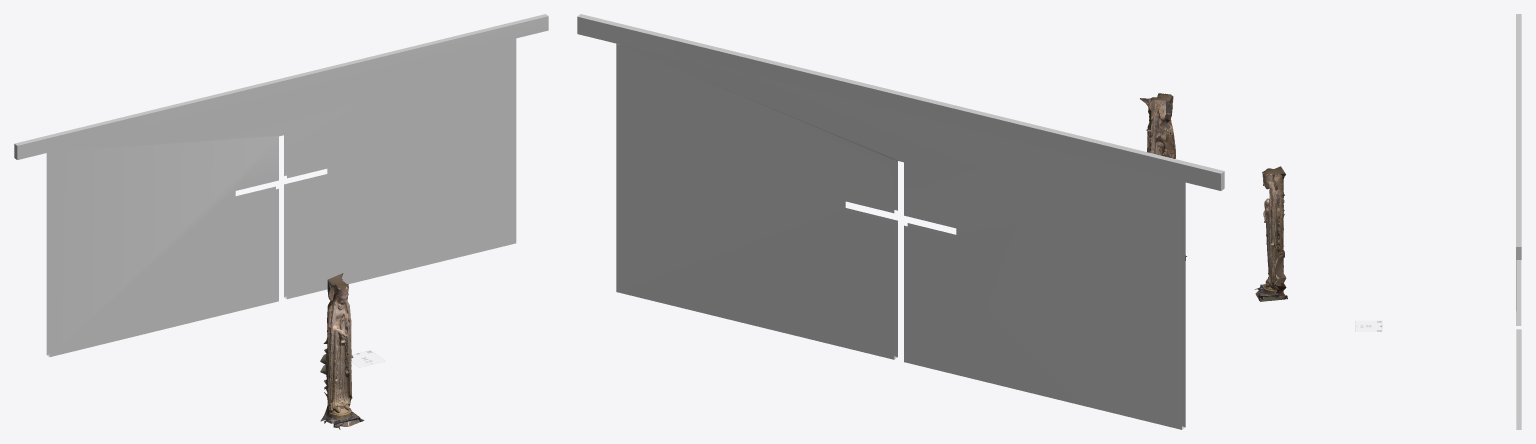
The model's file is project20.glb.
The picture shows the model from 3 angles, left to right: view 1: azimuth 30°, elevation 25°; view 2: azimuth 150°, elevation 25°; view 3: azimuth 270°, elevation 25°; orthographic projection. The views are drawn at different scales.
Visible parts, largest first — view 1: Podmanczky Réka/Ruszinkó Dominika; view 2: Podmanczky Réka/Ruszinkó Dominika; view 3: Podmanczky Réka/Ruszinkó Dominika, TRACK.
Part boxes in pixels (left/top/right/bottom): Podmanczky Réka/Ruszinkó Dominika: left=14, top=14, right=548, bottom=429; Podmanczky Réka/Ruszinkó Dominika: left=577, top=14, right=1224, bottom=429; Podmanczky Réka/Ruszinkó Dominika: left=1254, top=14, right=1521, bottom=429; TRACK: left=1355, top=321, right=1381, bottom=331.
Size of the model in its own units: 10.12 by 4.01 by 4.92.
3 materials, 2 textured.
